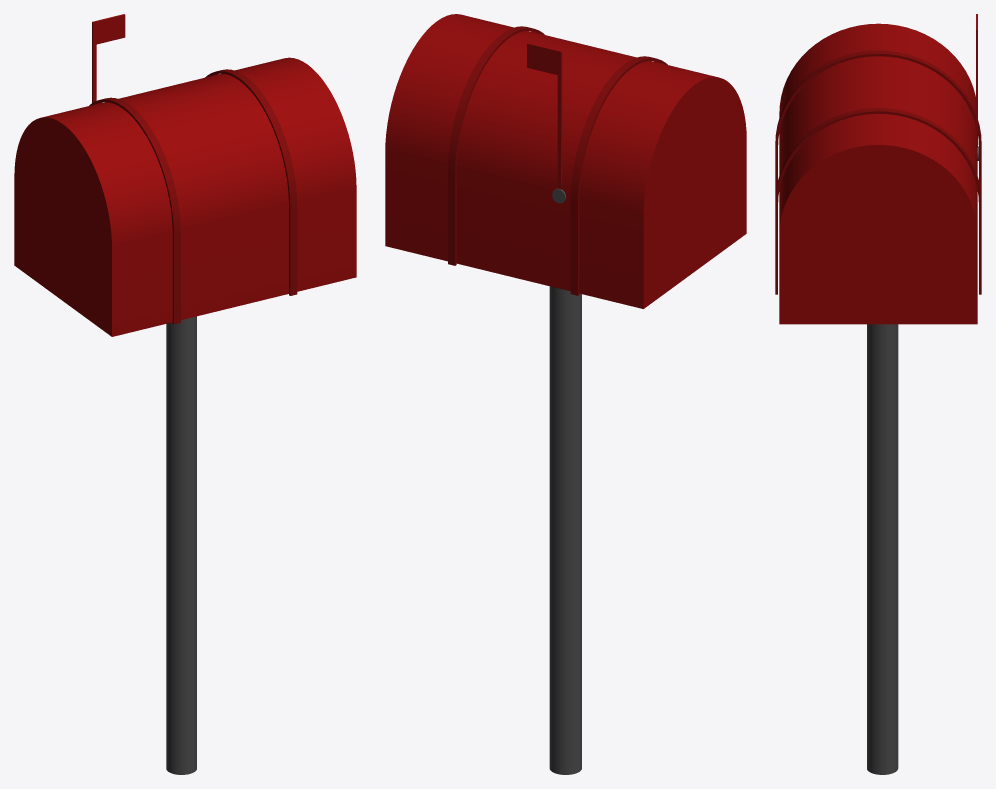
3 renders of one model, left to right at view 1: azimuth 30°, elevation 25°; view 2: azimuth 150°, elevation 25°; view 3: azimuth 270°, elevation 25°, orthographic. The views are drawn at different scales.
Visible parts, largest first — view 1: mailbox; view 2: mailbox; view 3: mailbox.
Part boxes in pixels (x1=…): mailbox: x1=14, y1=14, x2=356, y2=774; mailbox: x1=385, y1=14, x2=746, y2=774; mailbox: x1=775, y1=14, x2=981, y2=774.
Size of the model in its own units: 0.425 by 1.2 by 0.306.
